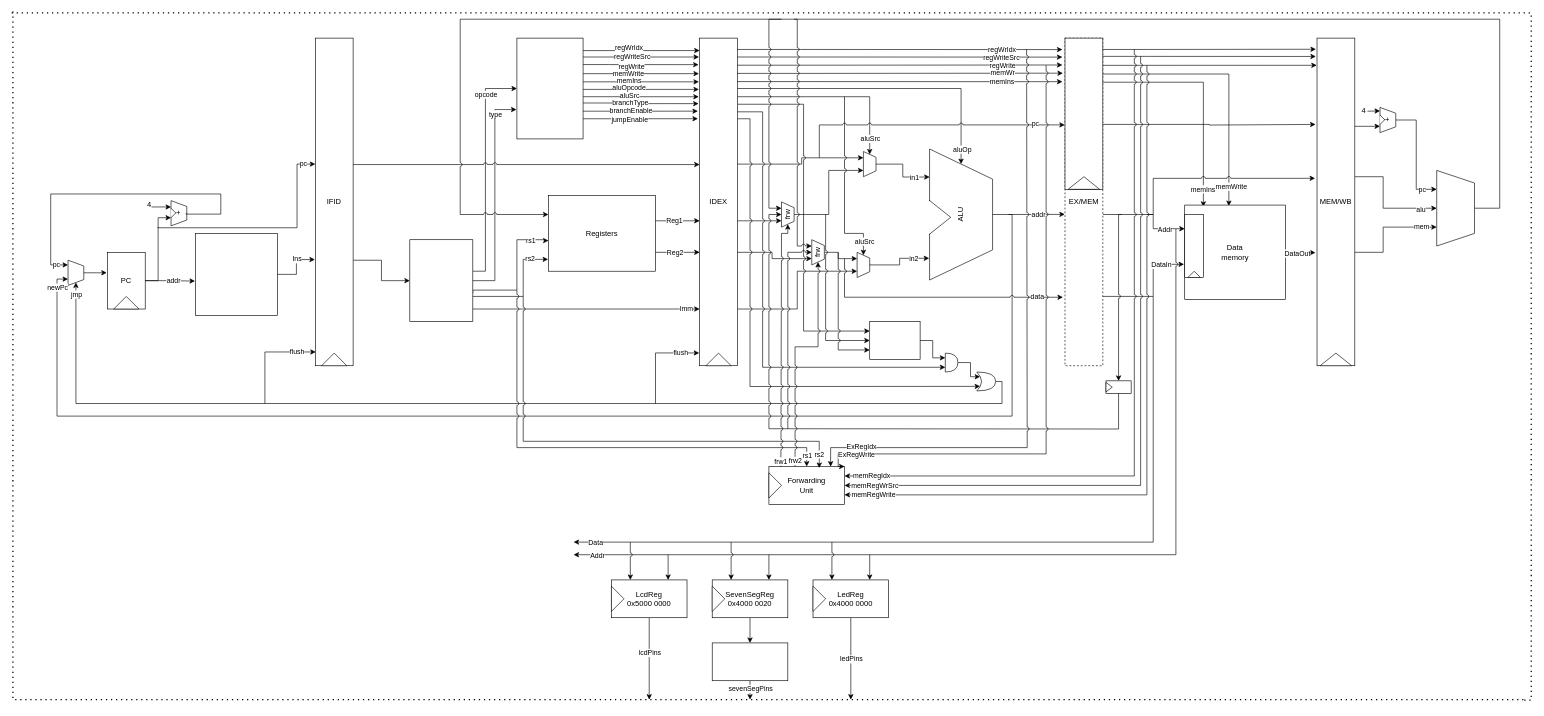
The diagram is 1544 pixels wide and 716 high, and some of its shapes have lost their labels. The shapes that lost their labels are listed below. From the top down, each one's centre as x and y in pixels, then its label:
[549,88]: Control
[236,274]: Instr. Vec
[441,280]: Decode
[894,340]: Branch
[750,661]: SevenSegDecoder
